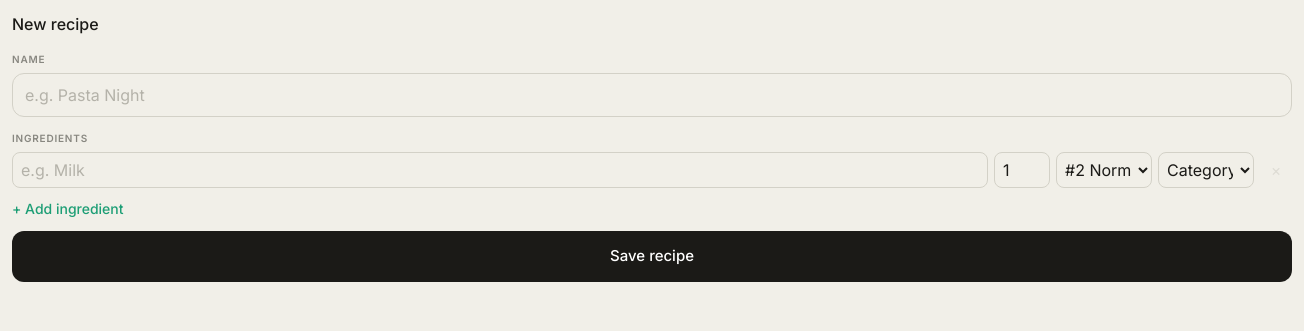
Test: RecipeForm › shows error when ingredient name is empty
The width and height of the screenshot is (1304, 331).
Type "My Recipe" into the field with placeholder "e.g. Pasta Night" at (652, 95), box top-left (12, 73), bottom-right (1292, 117)
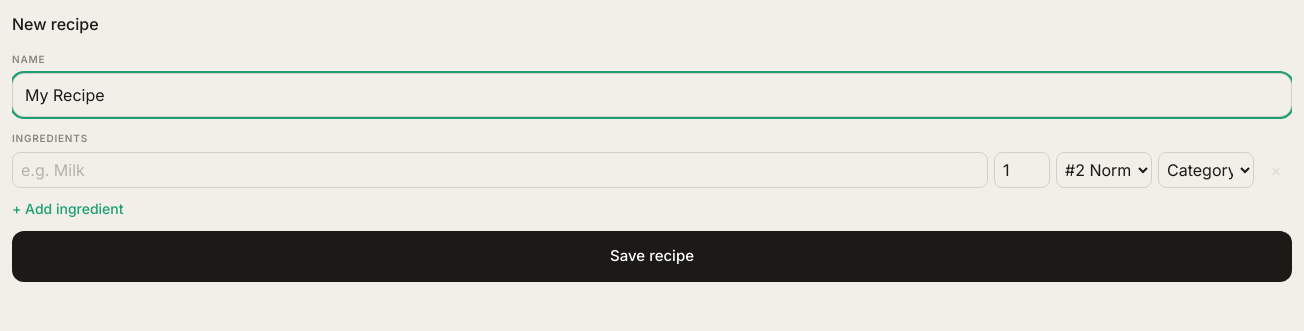
Click the button "Save recipe" at (652, 256), box top-left (12, 231), bottom-right (1292, 282)
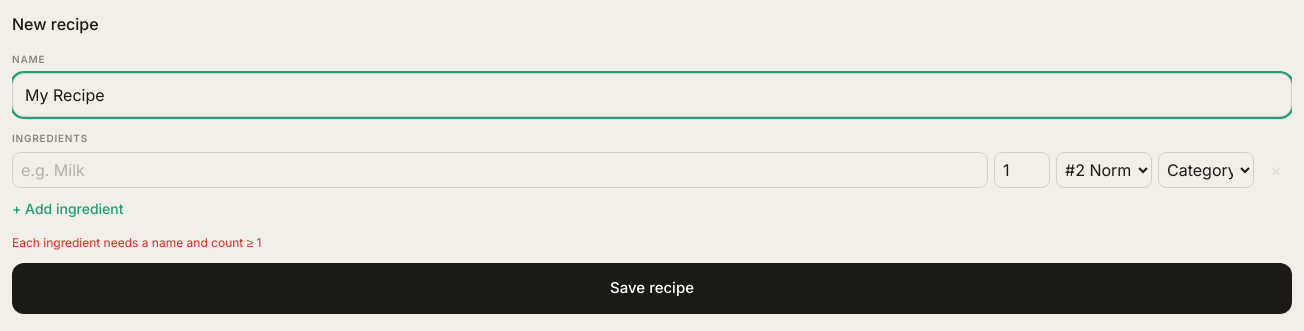
Expected: the text "Each ingredient needs a name and count ≥ 1" is shown, top-left (12, 235), bottom-right (262, 250)
